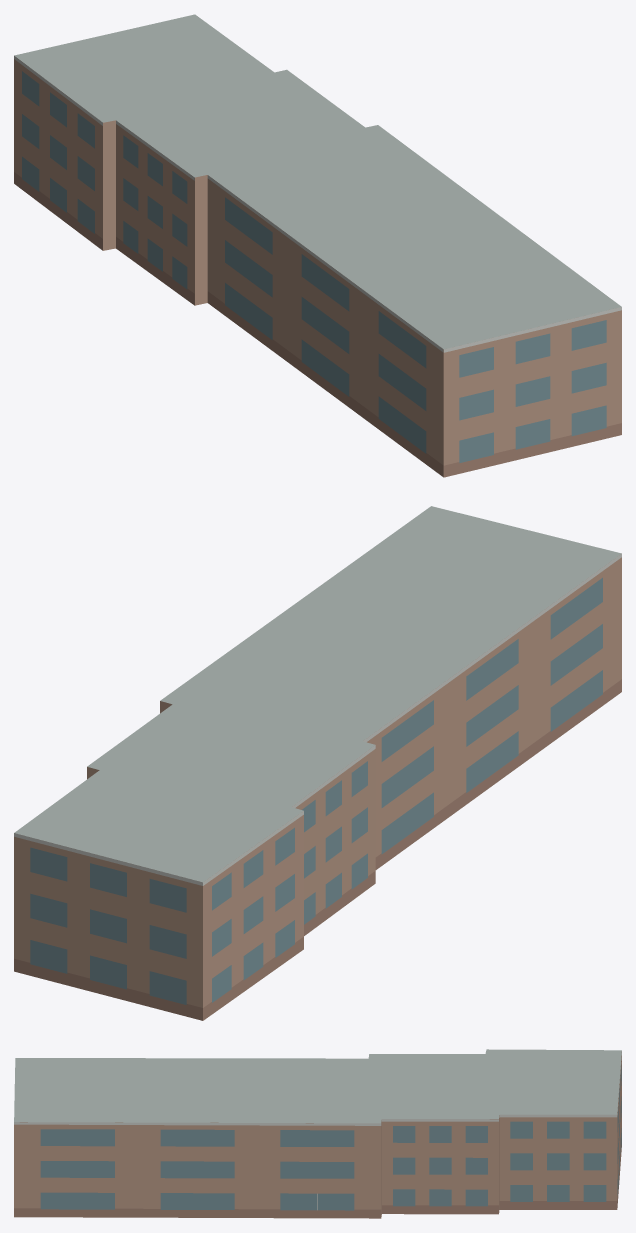
File: survey-upis-32634217.glb
3 views of the same model, one above another, from view 1: azimuth 30°, elevation 25°; view 2: azimuth 150°, elevation 25°; view 3: azimuth 270°, elevation 25° (orthographic). The views are drawn at different scales.
Parts seen in each view (by area): view 1: survey-upis-32634217.tmp; view 2: survey-upis-32634217.tmp; view 3: survey-upis-32634217.tmp.
Boxes of the visible parts, x1=… form: survey-upis-32634217.tmp: x1=14, y1=14, x2=621, y2=477; survey-upis-32634217.tmp: x1=14, y1=506, x2=621, y2=1020; survey-upis-32634217.tmp: x1=14, y1=1049, x2=621, y2=1218.
Size of the model in its own units: 15.26 by 9.15 by 53.01.
